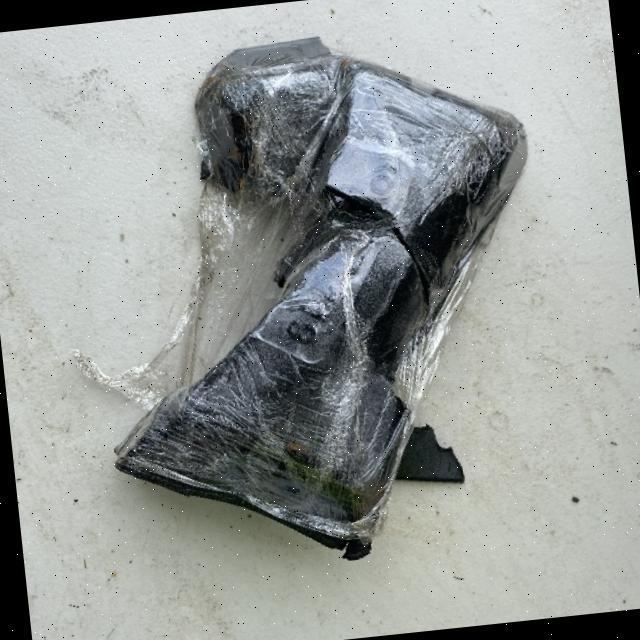styrofoam: (53, 12, 570, 585)
